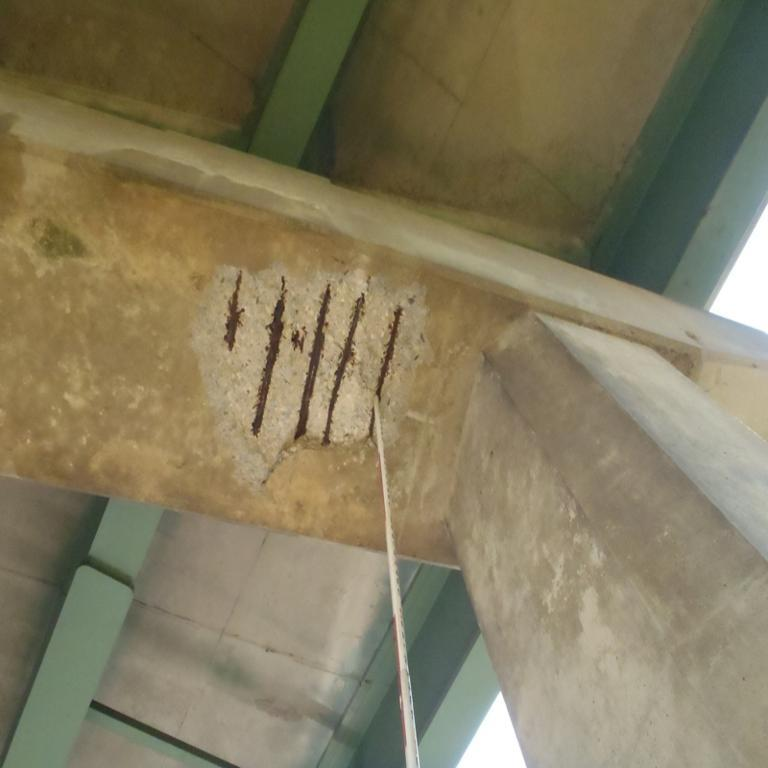exposed_rebar: (322, 292, 364, 445), (294, 284, 332, 439), (252, 276, 286, 434), (375, 304, 402, 398), (224, 270, 244, 350)
spalling: (194, 267, 426, 485)
